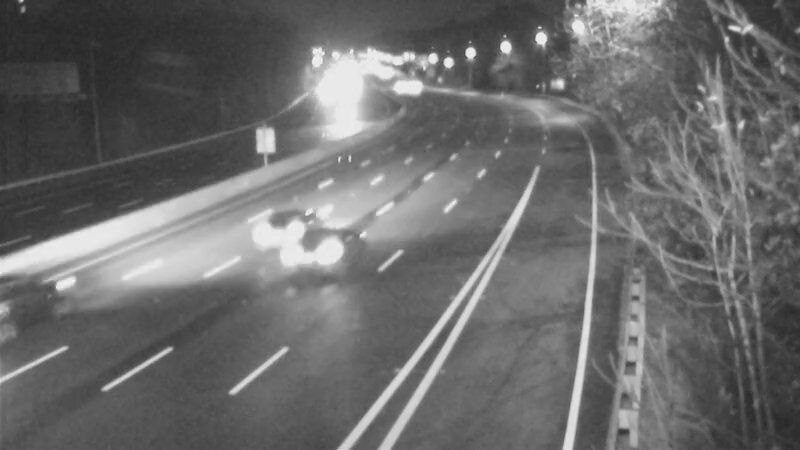vehicle: (1, 251, 90, 361), (284, 210, 364, 290), (237, 192, 317, 272), (317, 102, 367, 152)
